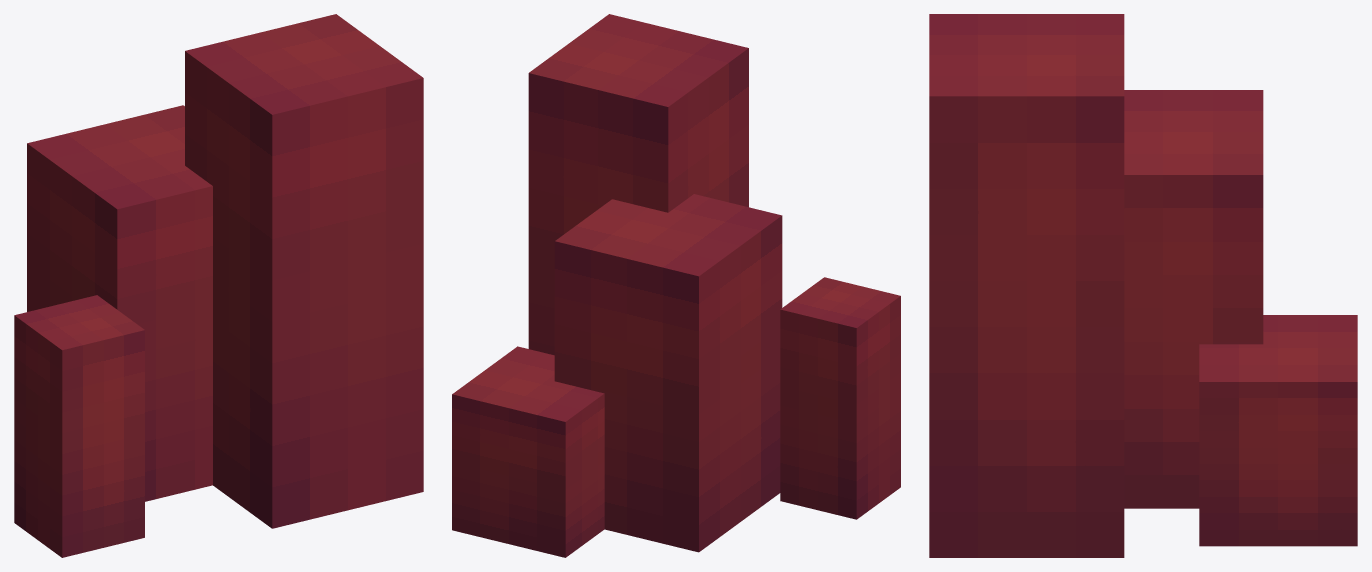
The model's file is cinnabar_crystal_four.obj.
The picture shows the model from 3 angles, left to right: view 1: azimuth 30°, elevation 25°; view 2: azimuth 150°, elevation 25°; view 3: azimuth 270°, elevation 25°; orthographic projection. The views are drawn at different scales.
Visible parts, largest first — view 1: Crystal5_Cube.008; view 2: Crystal5_Cube.008; view 3: Crystal5_Cube.008.
Part boxes in pixels (box(x1,y1,x2,y2)): Crystal5_Cube.008: box(14, 14, 423, 557); Crystal5_Cube.008: box(452, 14, 900, 557); Crystal5_Cube.008: box(929, 14, 1357, 557).
Size of the model in its own units: 0.4231 by 0.494 by 0.4151.
